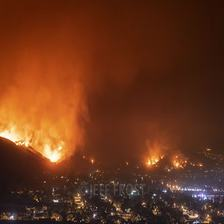fire: (1, 97, 82, 166), (143, 139, 200, 174)
